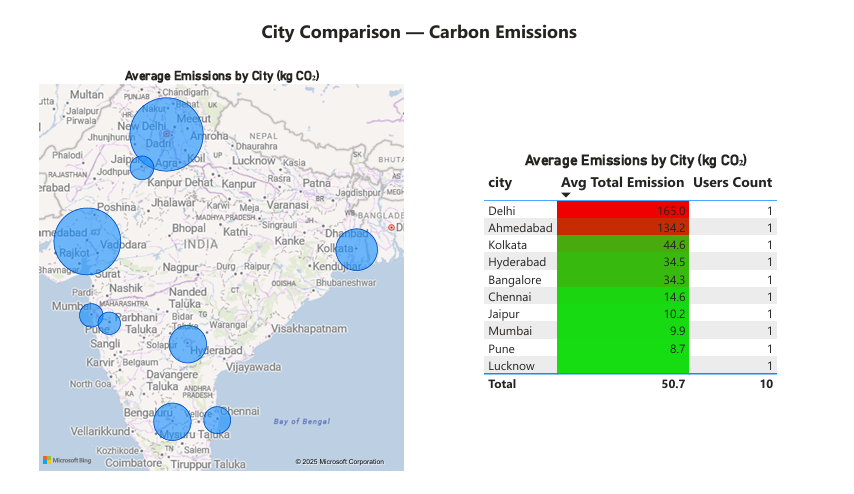

What the dashboard file says about the page in this screenshot:
{"tool":"powerbi","page":{"name":"Page 2","canvas":[1280,720],"ordinal":1},"visuals":[{"type":"map","title":"Average Emissions by City (kg CO₂)","fields":{"Category":["merged_data.city"],"Size":["Sum(merged_data.total_emission)"]},"box":[144,128,496,544],"z":0},{"type":"tableEx","title":"Average Emissions by City (kg CO₂)","fields":{"Values":["merged_data.city","merged_data.Avg Total Emission","merged_data.Users Count"]},"box":[736,240,416,336],"z":1000},{"type":"textbox","box":[426.7,58.3,456.7,63.3],"z":2000}]}

Visuals, with their boxes in screenshot pixels (x1, y1, x2, y2), scaled from the page's 1280x720 canvas onto the 854x494 screenshot:
"Average Emissions by City (kg CO₂)" map: 96 88 427 461
"Average Emissions by City (kg CO₂)" tableEx: 491 165 769 395
textbox: 285 40 589 83
